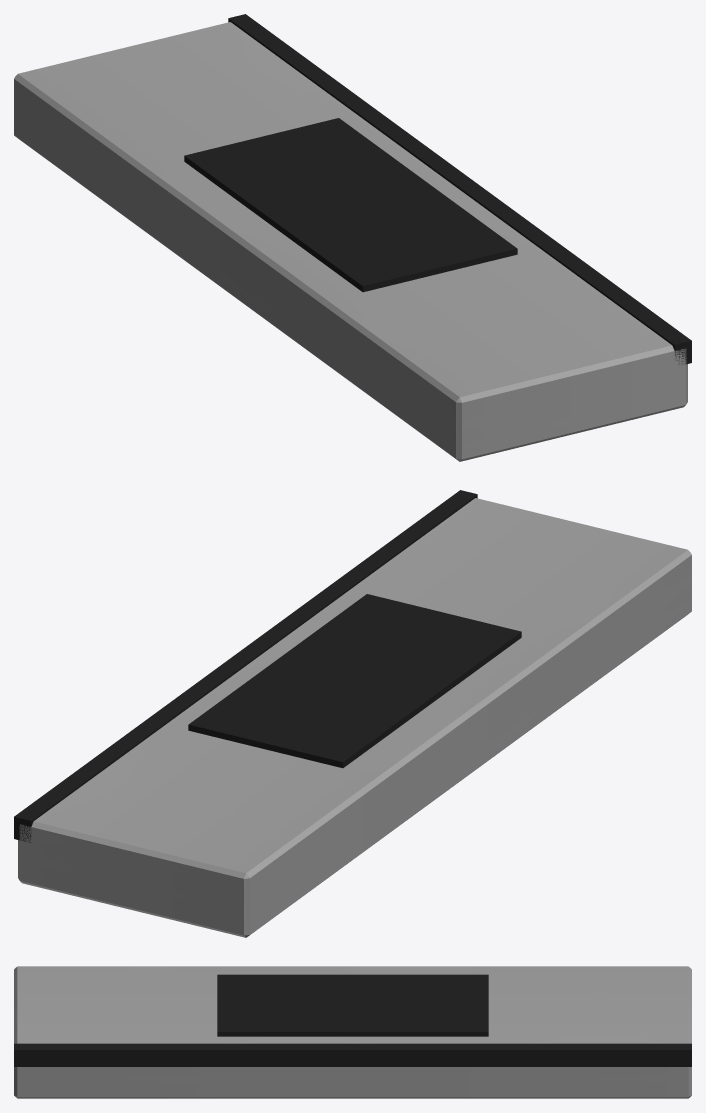
File: SM_Build_Eingangsstufe.fbx
3 renders of one model, top to bottom at view 1: azimuth 30°, elevation 25°; view 2: azimuth 150°, elevation 25°; view 3: azimuth 270°, elevation 25°, orthographic. The views are drawn at different scales.
Visible parts, largest first — view 1: Eingangsstufe; view 2: Eingangsstufe; view 3: Eingangsstufe.
Boxes of the visible parts, x1,y1,x2,y2 form: Eingangsstufe: (14, 14, 691, 461); Eingangsstufe: (14, 490, 691, 937); Eingangsstufe: (14, 966, 691, 1098).
Bounding box in the file's own units: 0.605 × 0.175 × 2.
